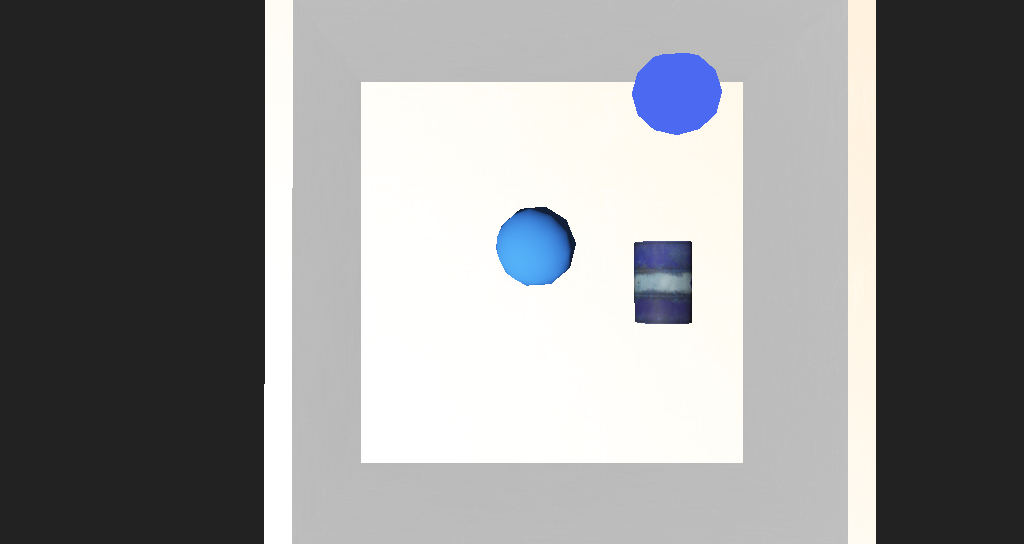cone: (566, 248, 620, 296)
cylinder: (559, 148, 640, 205)
sphere: (458, 229, 525, 277)
